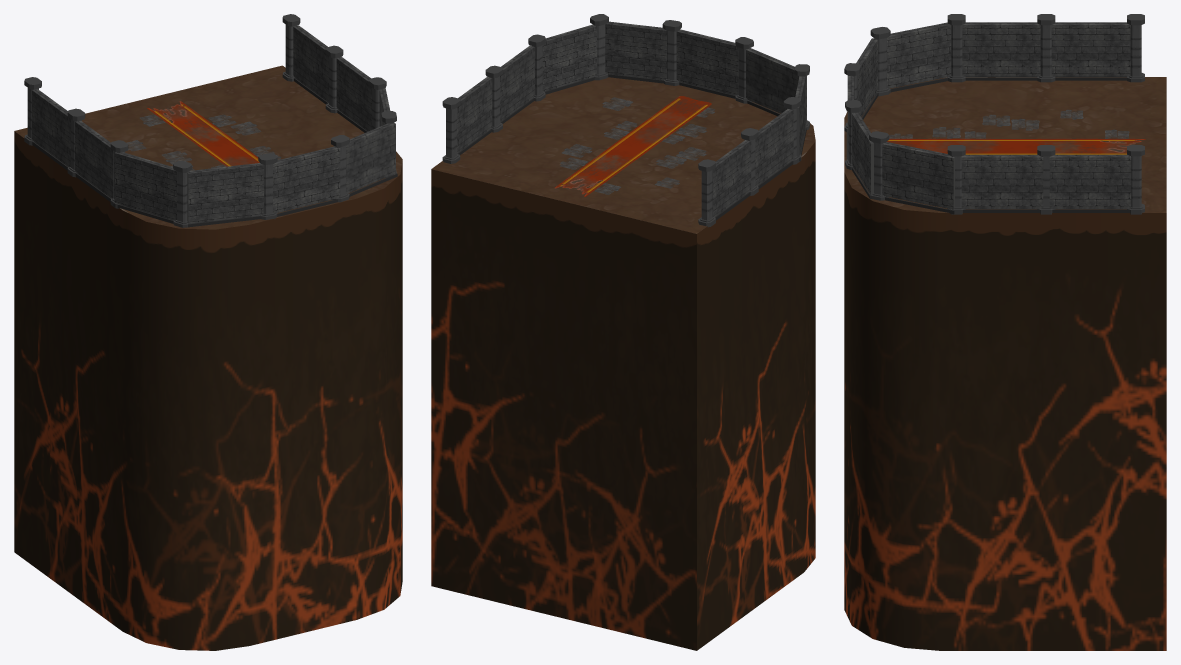
The model's file is Plataforma Final.fbx.
3 renders of one model, left to right at view 1: azimuth 30°, elevation 25°; view 2: azimuth 150°, elevation 25°; view 3: azimuth 270°, elevation 25°, orthographic. The views are drawn at different scales.
Parts seen in each view (by area): view 1: Plataforma Inicio.002, Muro3.002, Muro6.003, Muro3.001, Muro6.002, Plane.028, Muro.003, Muro2.001, Muro4.001, Muro5.001, Pilar3.001, Pilar3.002 (+3 smaller); view 2: Plataforma Inicio.002, Plane.028, Muro6.003, Muro6.002, Muro6.001, Muro3.002, Muro.003, Muro2.001, Muro4.001, Muro5.001, Pilar.016, Pilar4.004 (+6 smaller); view 3: Plataforma Inicio.002, Muro5.001, Muro4.001, Muro.003, Muro2.001, Muro6.001, Muro3.001, Plane.028, Muro6.002, Muro3.002, Pilar.001, Pilar2.001 (+6 smaller).
Boxes of the visible parts, bbox=[...] form: Plataforma Inicio.002: bbox=[14, 65, 402, 650]; Muro3.002: bbox=[187, 163, 263, 227]; Muro6.003: bbox=[273, 146, 340, 216]; Muro3.001: bbox=[113, 152, 176, 223]; Muro6.002: bbox=[346, 123, 397, 196]; Plane.028: bbox=[147, 101, 259, 166]; Muro.003: bbox=[32, 89, 70, 170]; Muro2.001: bbox=[75, 121, 113, 201]; Muro4.001: bbox=[293, 25, 328, 104]; Muro5.001: bbox=[336, 57, 371, 132]; Pilar3.001: bbox=[173, 160, 192, 227]; Pilar3.002: bbox=[258, 153, 277, 219]; Plataforma Inicio.002: bbox=[431, 77, 815, 650]; Plane.028: bbox=[555, 96, 711, 196]; Muro6.003: bbox=[676, 29, 738, 98]; Muro6.002: bbox=[605, 21, 666, 83]; Muro6.001: bbox=[542, 24, 596, 94]; Muro3.002: bbox=[746, 48, 797, 116]; Muro.003: bbox=[712, 140, 751, 220]; Muro2.001: bbox=[755, 109, 793, 188]; Muro4.001: bbox=[457, 76, 492, 154]; Muro5.001: bbox=[500, 45, 534, 123]; Pilar.016: bbox=[698, 159, 715, 227]; Pilar4.004: bbox=[442, 97, 460, 163]; Plataforma Inicio.002: bbox=[844, 77, 1166, 650]; Muro5.001: bbox=[961, 154, 1043, 212]; Muro4.001: bbox=[1049, 154, 1131, 212]; Muro.003: bbox=[1051, 22, 1130, 80]; Muro2.001: bbox=[962, 22, 1040, 80]; Muro6.001: bbox=[882, 142, 954, 214]; Muro3.001: bbox=[887, 22, 951, 92]; Plane.028: bbox=[887, 138, 1145, 154]; Muro6.002: bbox=[851, 112, 873, 198]; Muro3.002: bbox=[856, 38, 877, 119]; Pilar.001: bbox=[1037, 14, 1055, 82]; Pilar2.001: bbox=[947, 14, 965, 82].
Bounding box in the file's own units: 1017 × 1712 × 1000.
